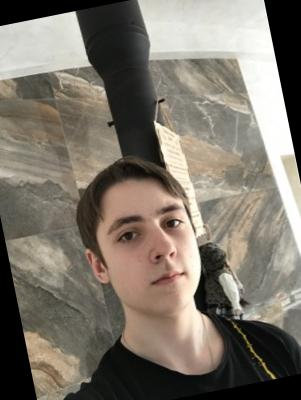without_mask: (94, 200, 211, 326)
